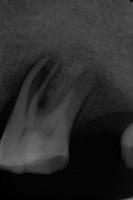Dental Caries: (0, 49, 64, 113), (72, 63, 133, 130)
Furcation Involvement: (38, 64, 62, 111)
